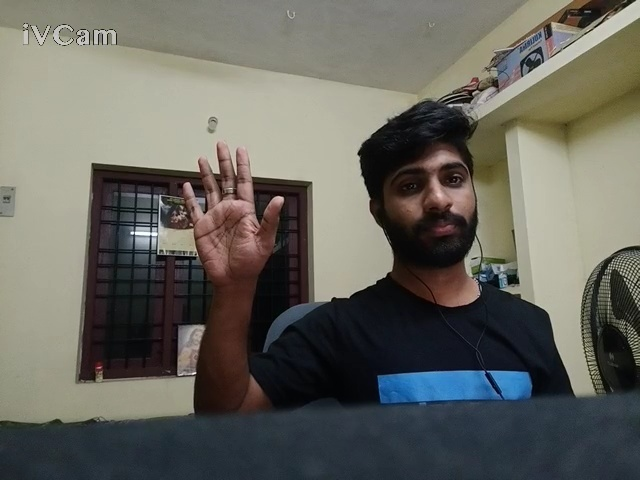Hello: (152, 138, 299, 296)
